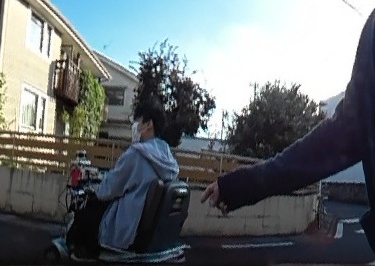person: (83, 98, 188, 251)
